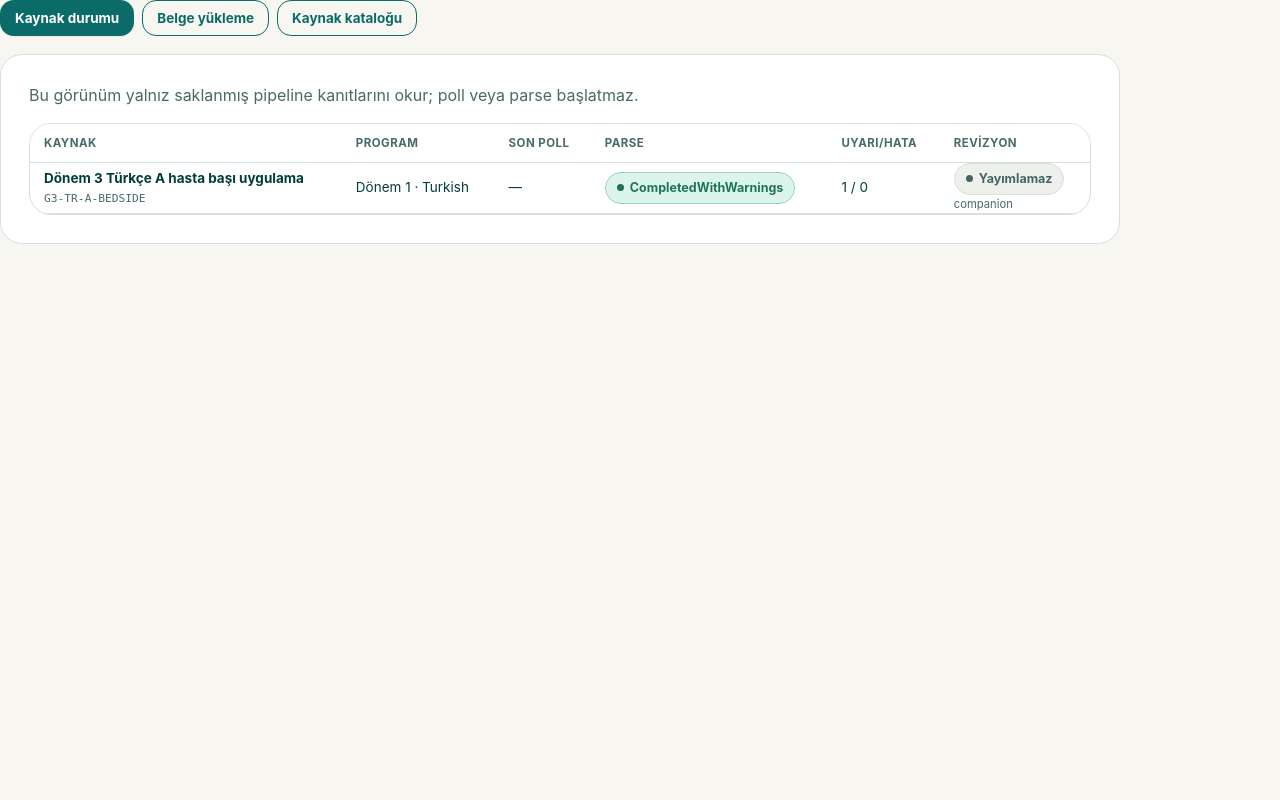
Test case: AdminSourceWorkspace › reads a companion source's empty revision as its design, not as a rejection
This screenshot has width=1280, height=800.
Expected: the text "Yayımlamaz" is shown, 954,163 -> 1064,195
Click the text "Dönem 3 Türkçe A hasta başı uygulama" at (174, 178), box 44,170 -> 304,186
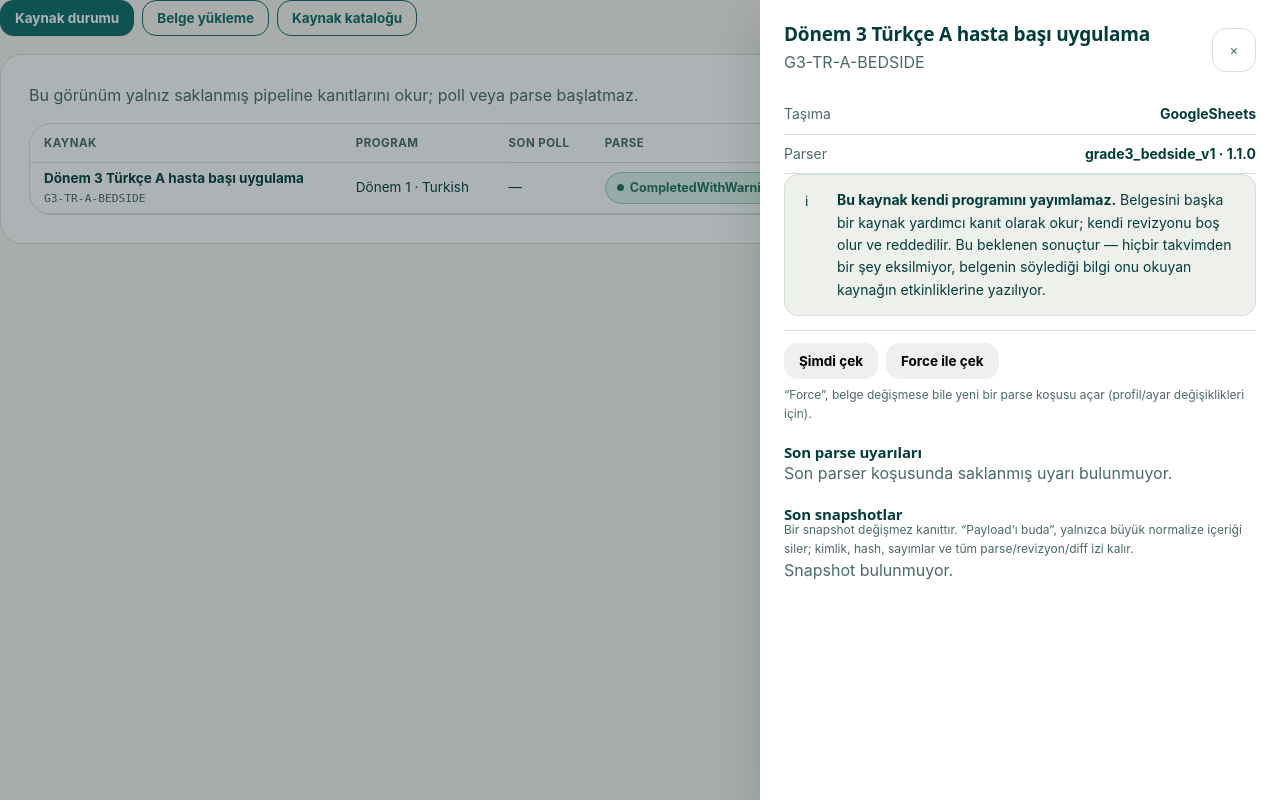
Expected: the text "Bu kaynak kendi programını yayımlamaz." is shown, 837,191 -> 1116,208
